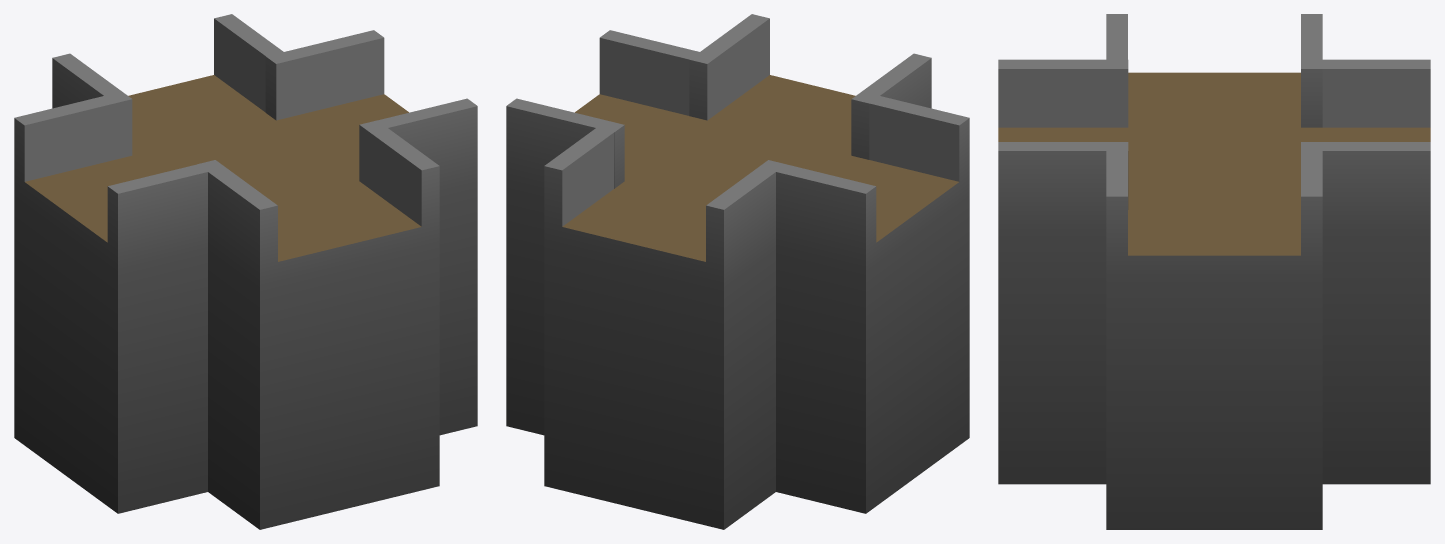
File: crossing1.FBX
3 renders of one model, left to right at view 1: azimuth 30°, elevation 25°; view 2: azimuth 150°, elevation 25°; view 3: azimuth 270°, elevation 25°, orthographic. The views are drawn at different scales.
Visible parts, largest first — view 1: Box015; view 2: Box015; view 3: Box015.
Boxes of the visible parts, <box> form: Box015: <box>14,14,477,529</box>; Box015: <box>506,14,969,529</box>; Box015: <box>998,14,1430,529</box>.
Size of the model in its own units: 100 by 85 by 100.
